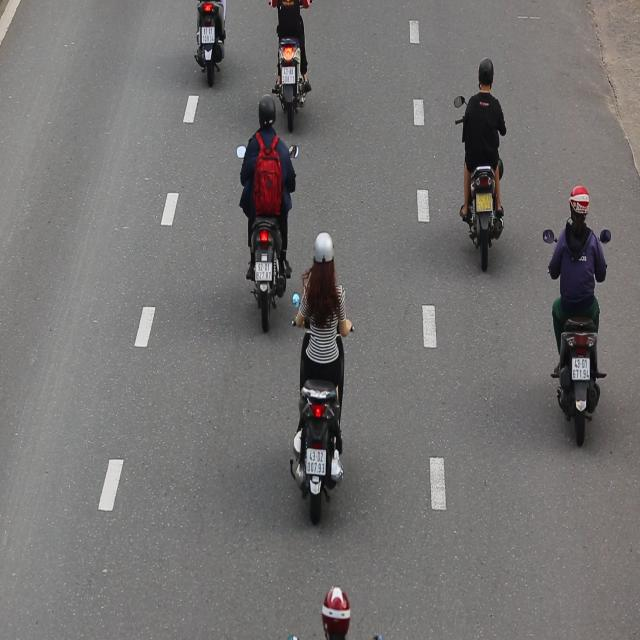motorbike: (285, 219, 356, 527), (542, 180, 610, 451), (238, 95, 300, 337), (452, 51, 512, 273)
